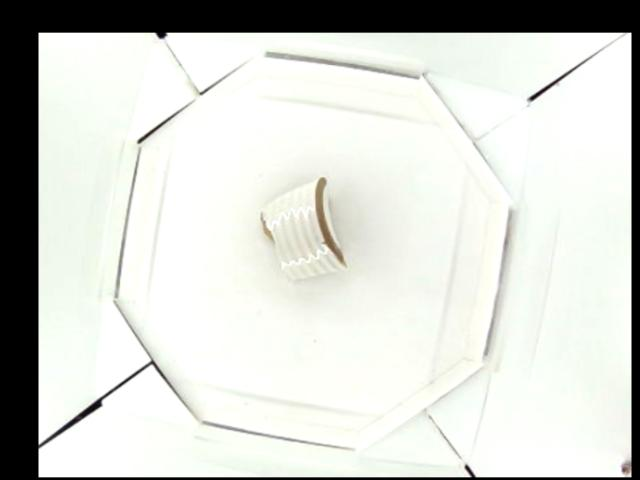China: (259, 177, 345, 280)
